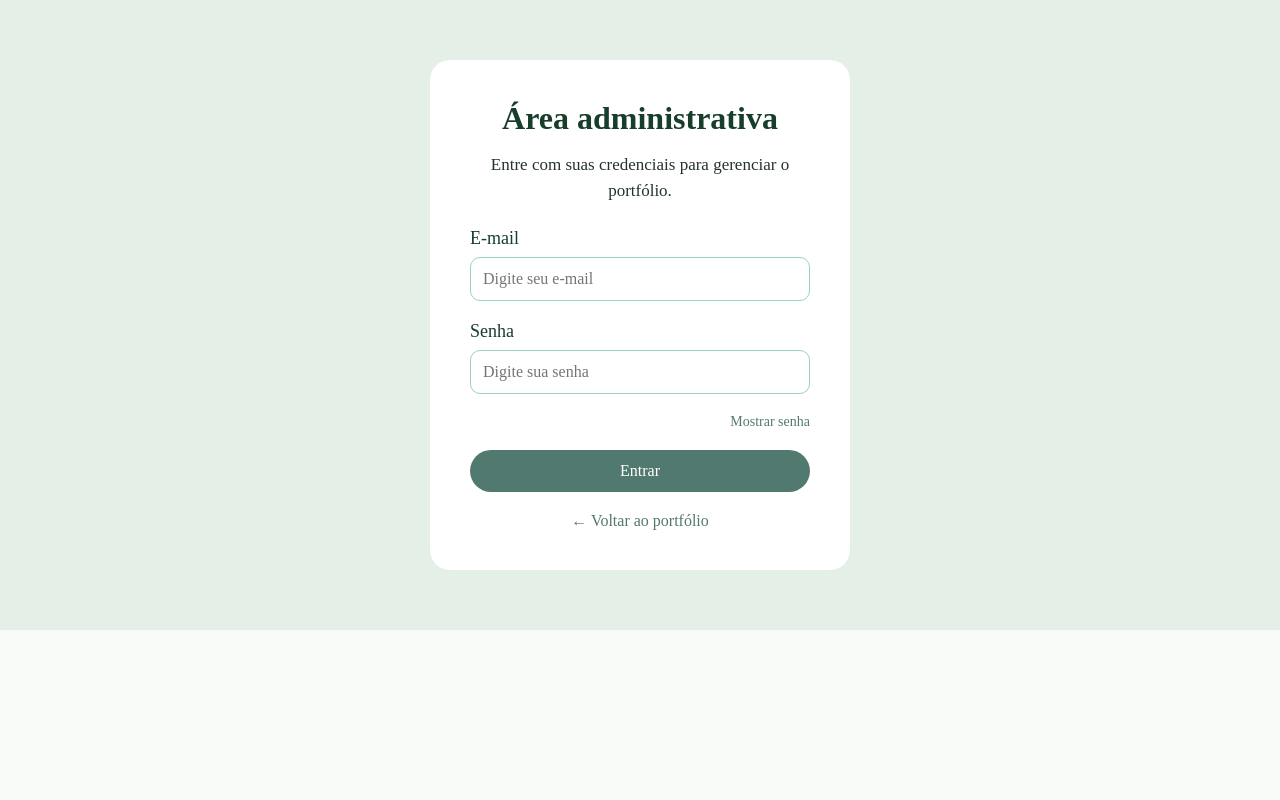
Página Login › Deve exibir mensagem de erro com login inválido
Step 1. Type "teste@email.com" into the field with placeholder "Digite seu e-mail" → coordinates (640, 279), box [470,257,810,301]
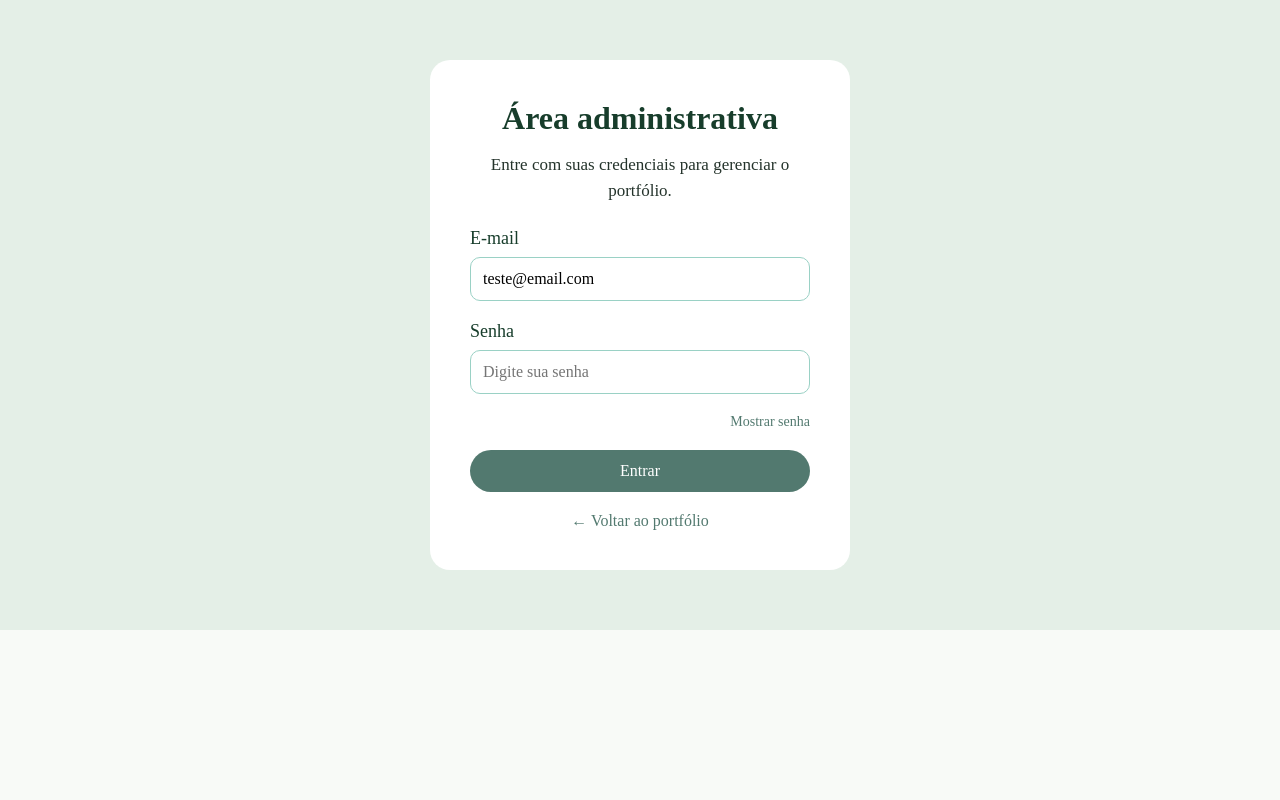
Step 2. Type "senha_incorreta" into the password field with placeholder "Digite sua senha" → coordinates (640, 372), box [470,350,810,394]
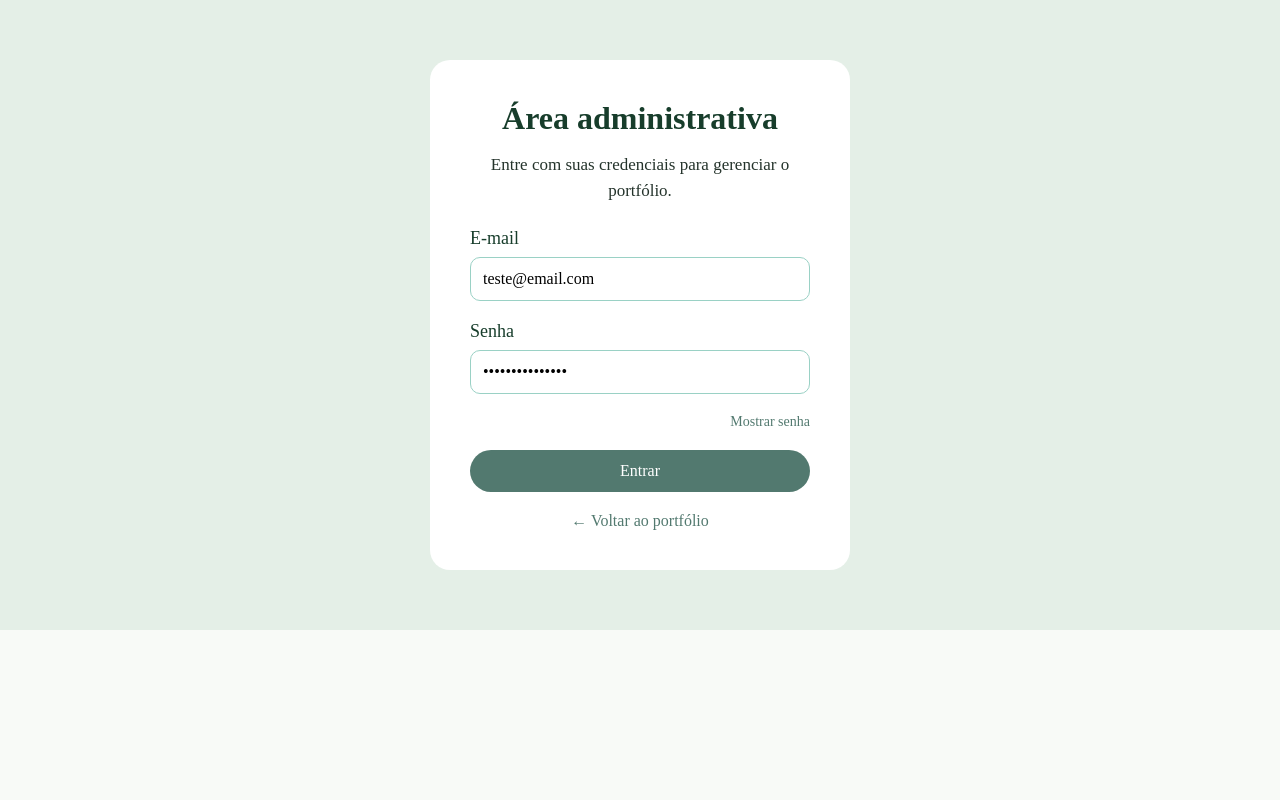
Step 3. Click the button "Entrar" → coordinates (640, 471), box [470,450,810,492]
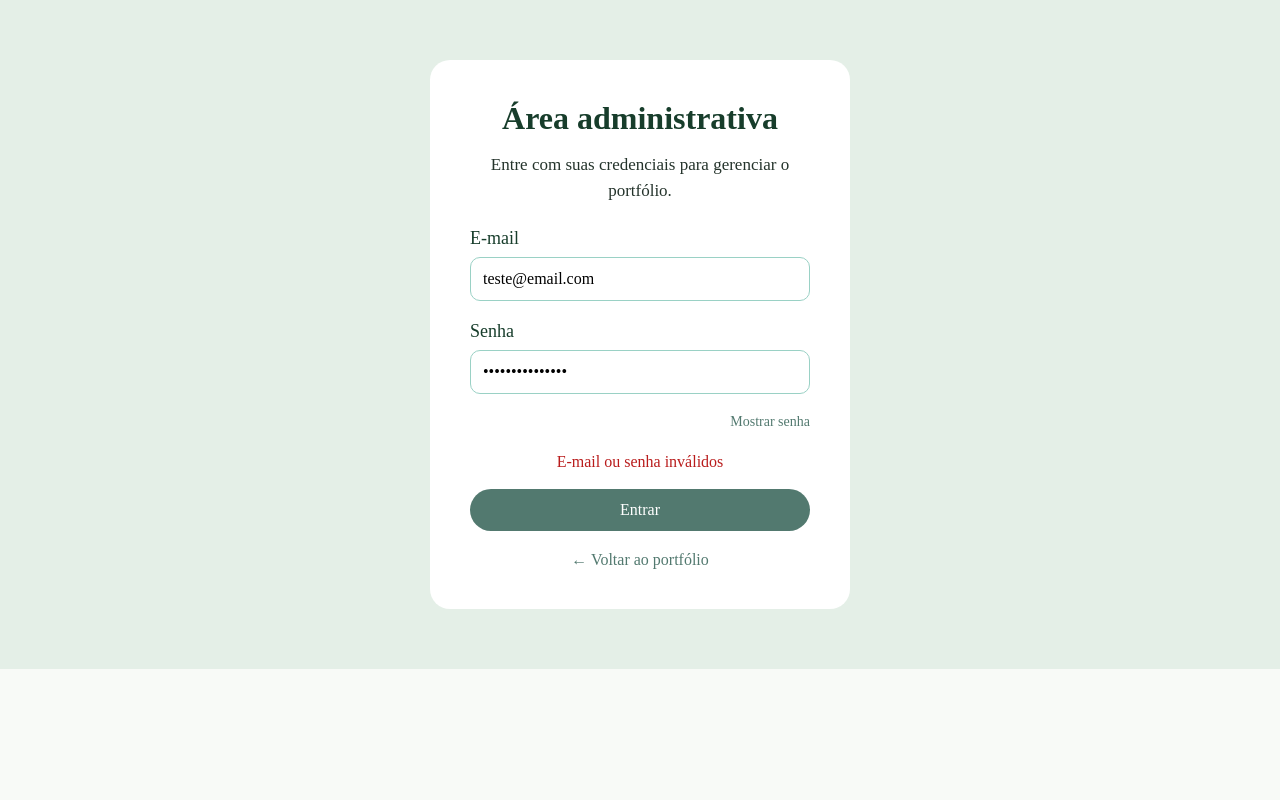
Result: the text "E-mail ou senha inválidos" is shown at [557,453,723,470]
